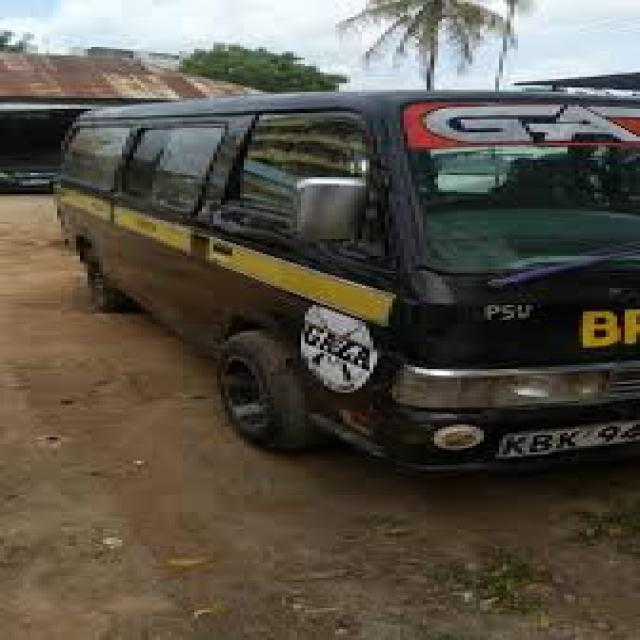matatu: (26, 53, 640, 548)
